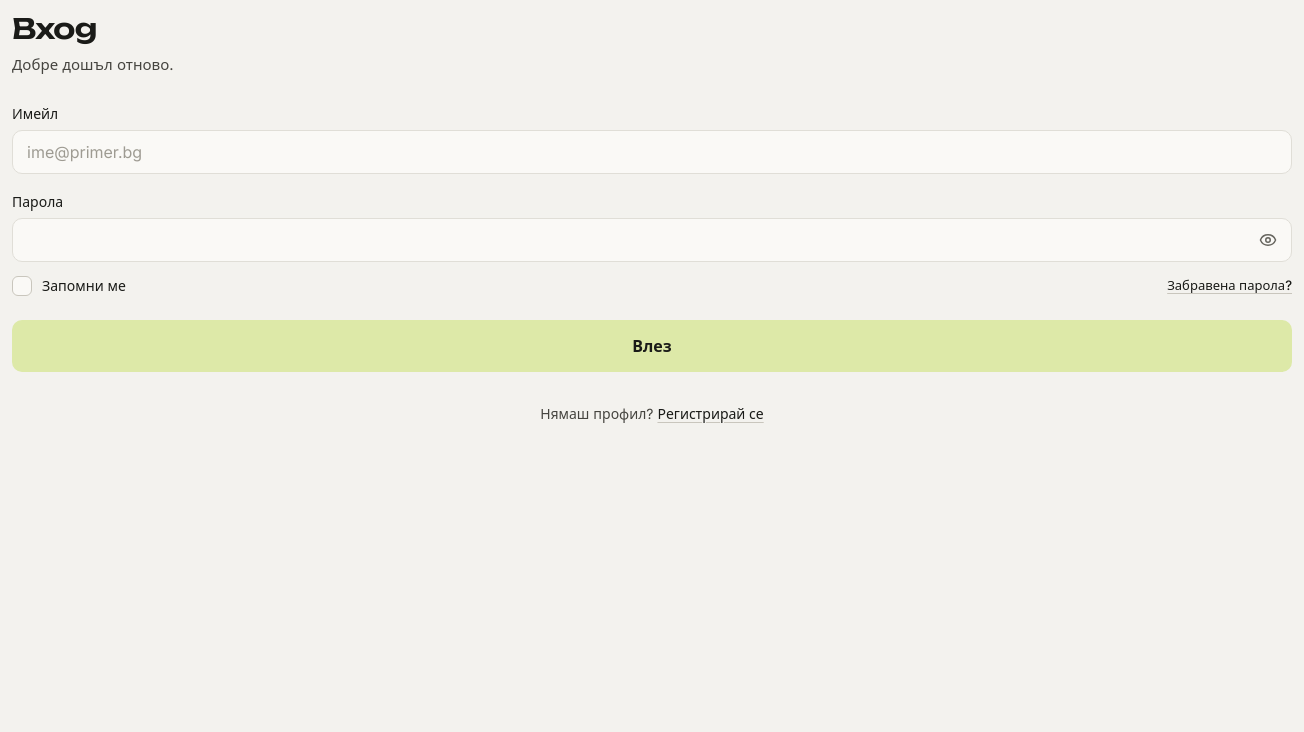
Test: LoginPage › locks the form with a countdown after too many attempts (429)
Type "anna@body4u.bg" into the field labelled "Имейл".
click(652, 152); type("anna@body4u.bg")  # box [12,130,1292,174]
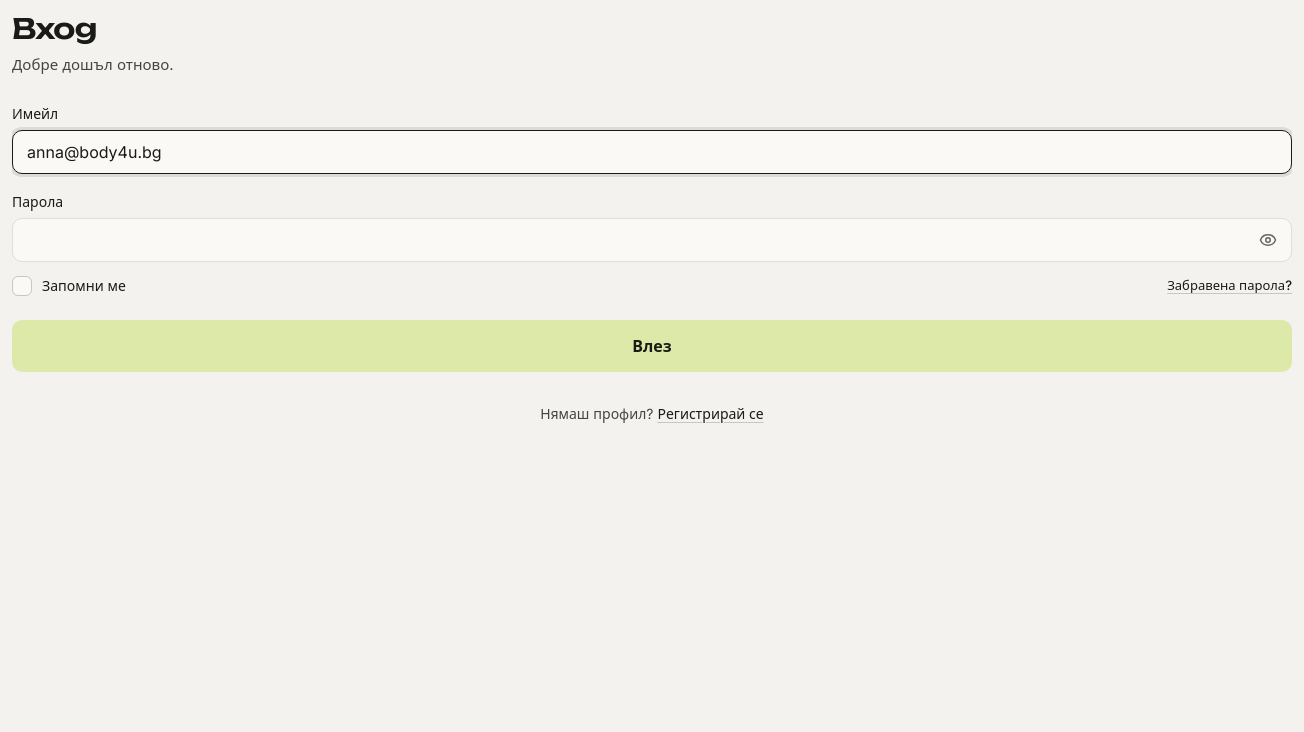
Type "Parola1!" into the password field labelled "Парола".
click(652, 240); type("Parola1!")  # box [12,218,1292,262]
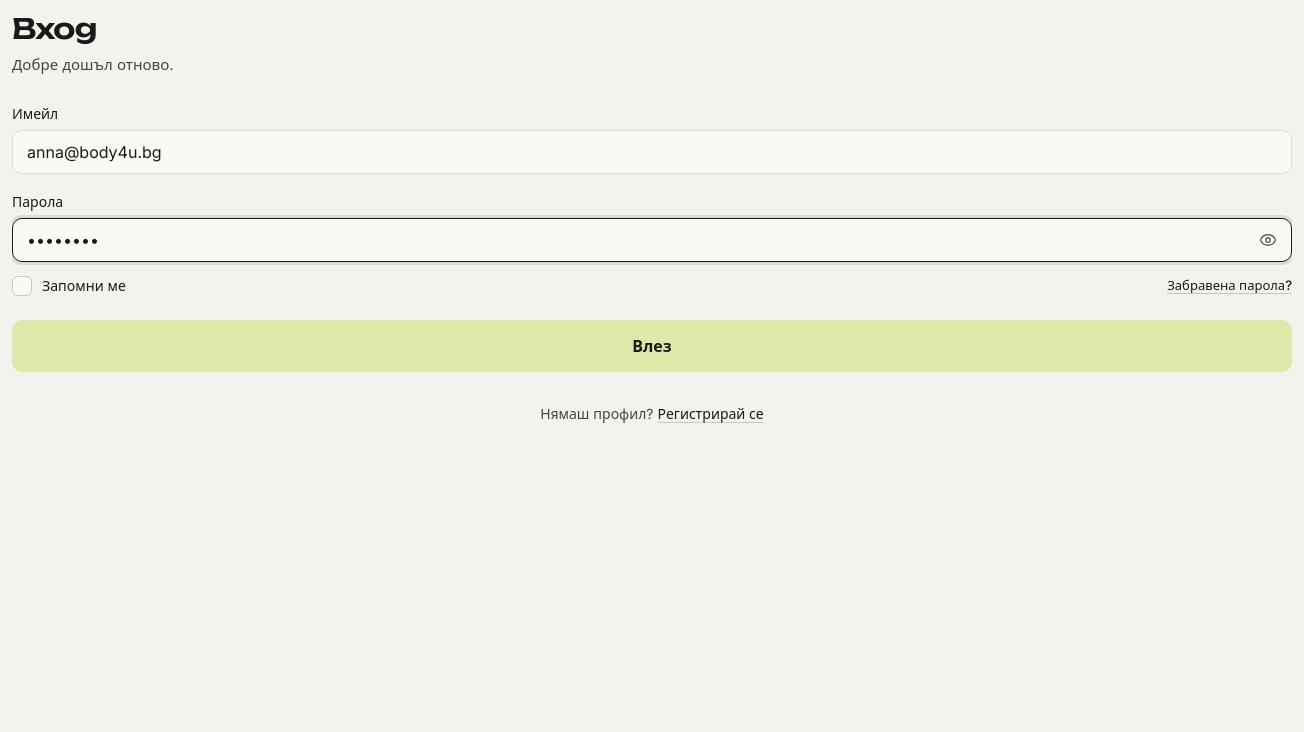
Click the button "Влез".
click(652, 346)  # box [12,320,1292,372]
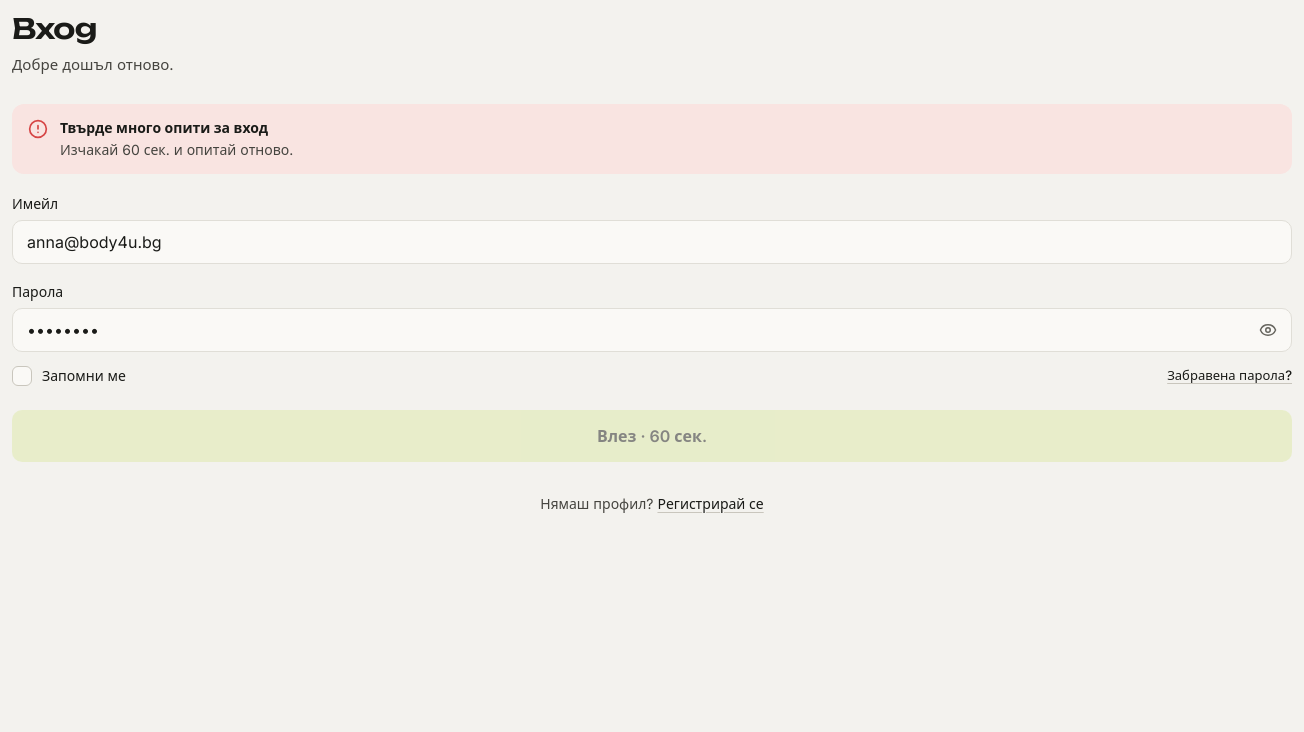
Check: the text "Твърде много опити за вход" is shown, box [60,119,268,136]
Check: the button "Влез · 60 сек." is disabled, box [12,410,1292,462]
